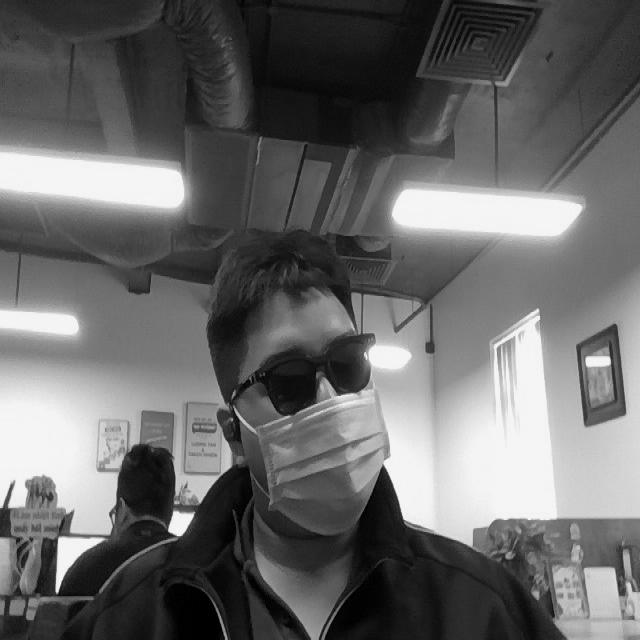fake: (257, 399, 393, 535), (257, 329, 375, 408)
